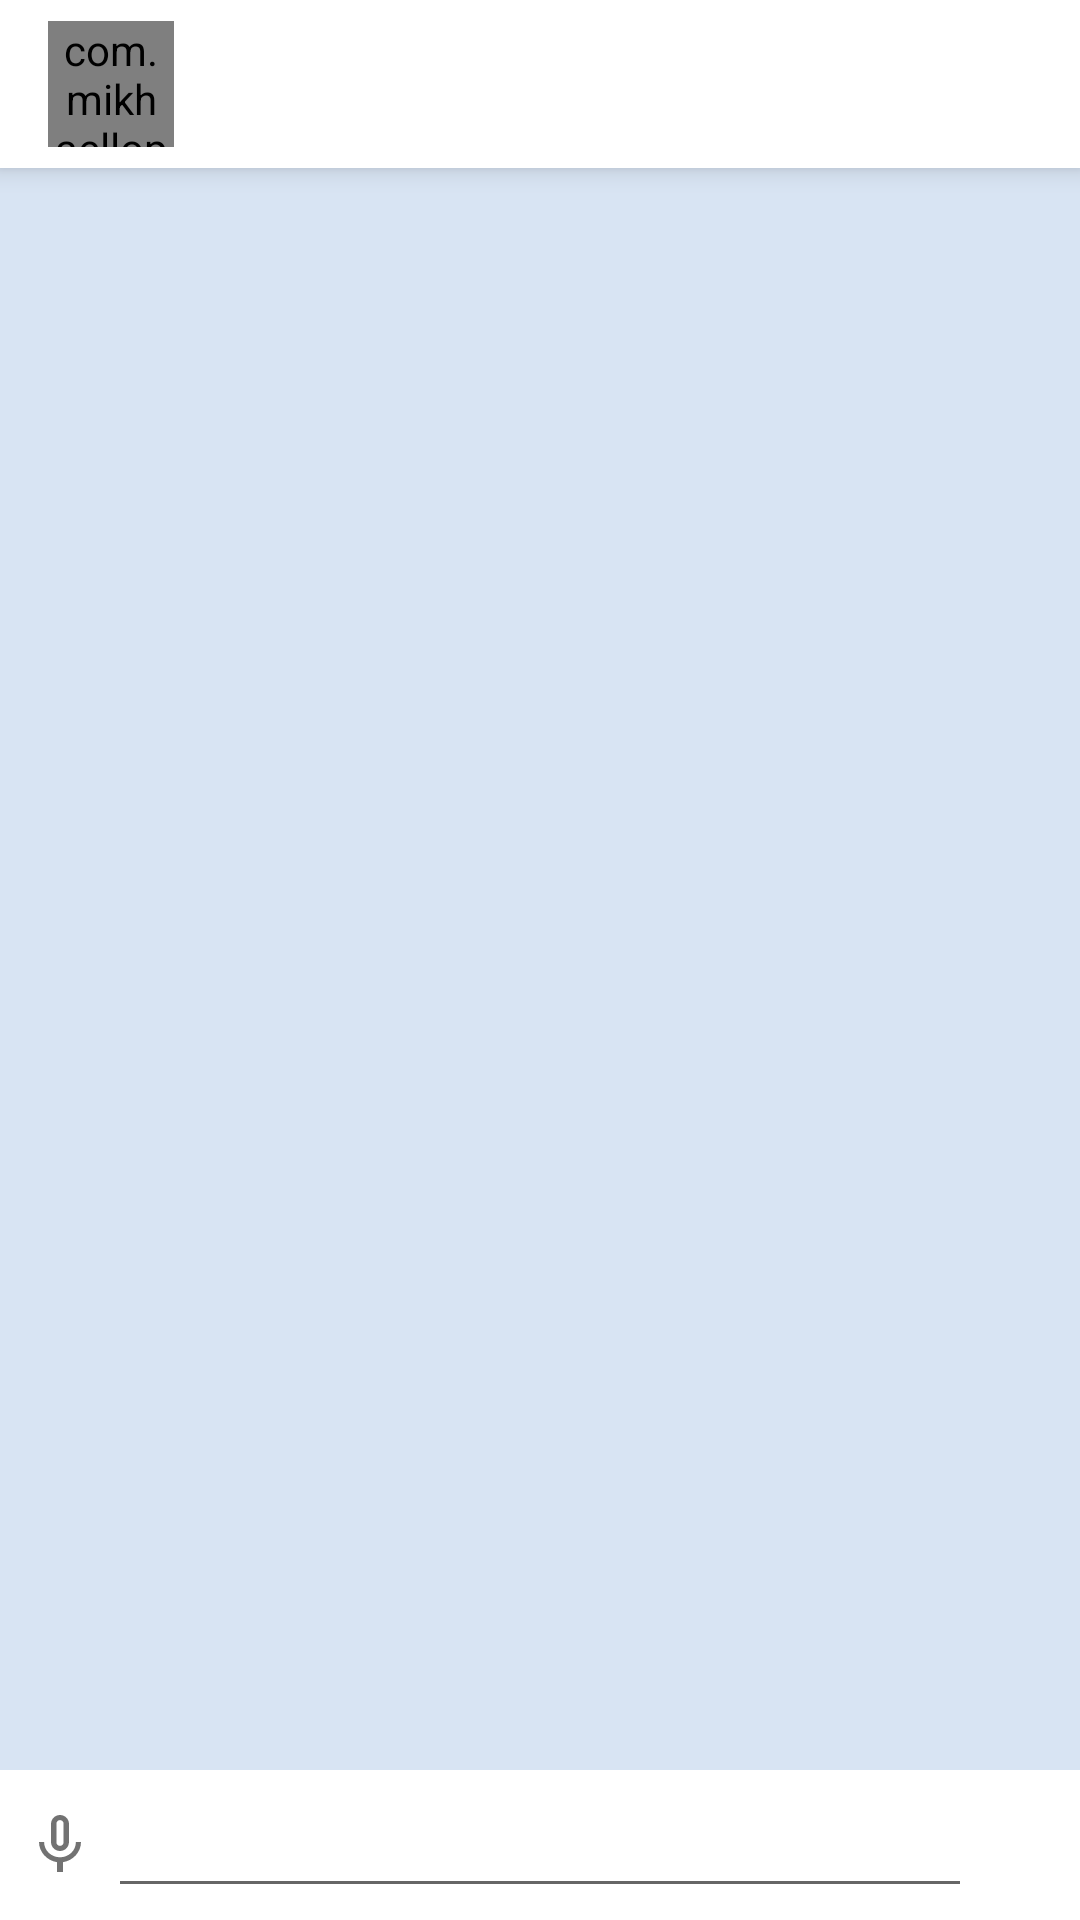

Screen size 1080px x 1920px. Icon name, then its center in pixels as (x,y):
mic none: (60,1843)
